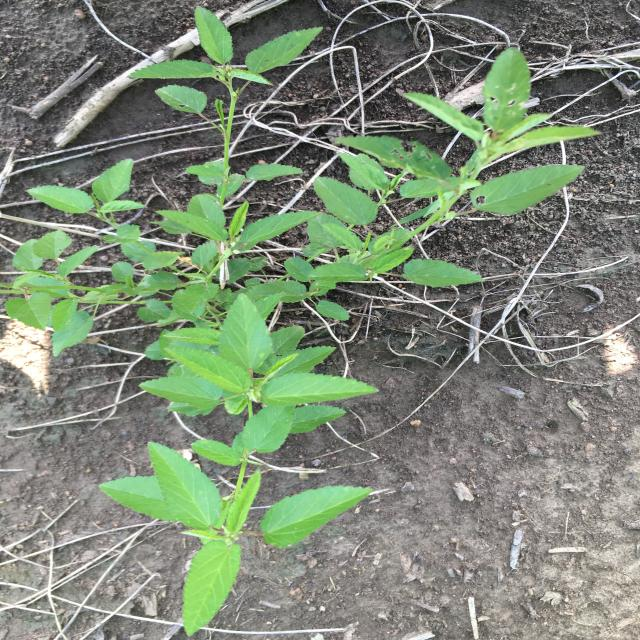PricklySida: (3, 6, 599, 637)
